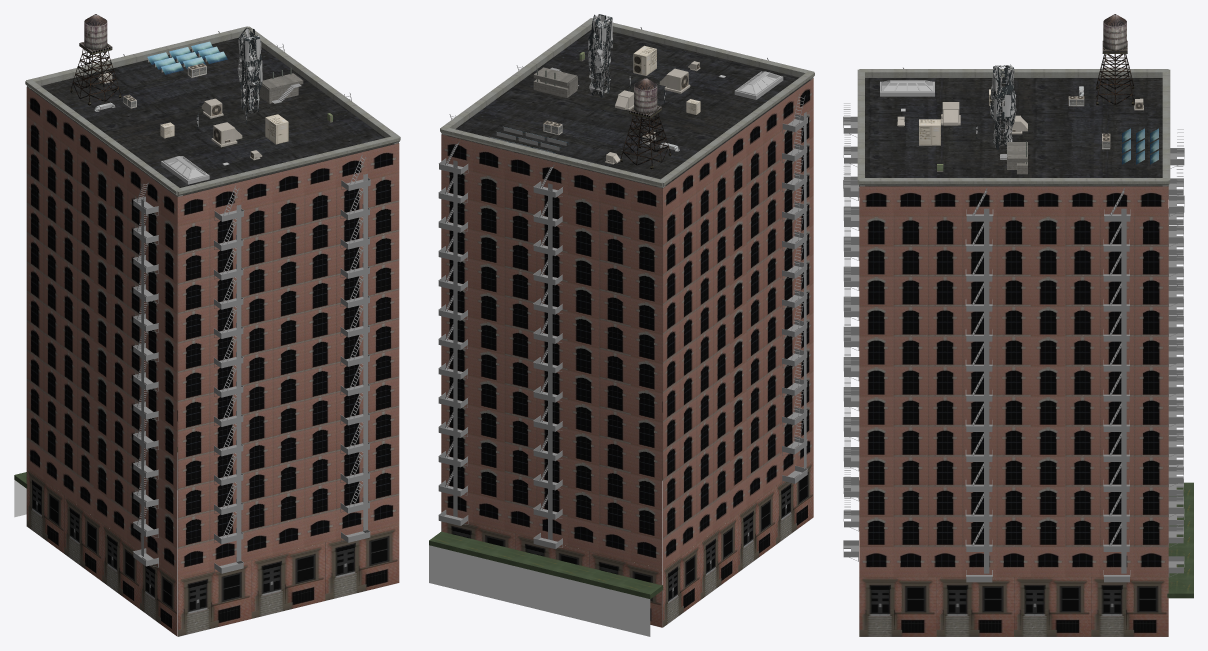
File: building4.gltf
3 views of the same model, side by side, from view 1: azimuth 30°, elevation 25°; view 2: azimuth 150°, elevation 25°; view 3: azimuth 270°, elevation 25° (orthographic). The views are drawn at different scales.
Parts seen in each view (by area): view 1: Object_118.006, Object_99.107, Object_99.113, Object_99.110, Object_99.114, Object_99.122, Object_99.119, Object_99.118; view 2: Object_118.006, Object_99.107, Object_99.113, Object_99.114, Object_99.122, Object_99.110, Object_99.119, Object_99.118; view 3: Object_118.006, Object_99.107, Object_99.113, Object_99.122, Object_99.110, Object_99.114, Object_99.119.
Boxes of the visible parts, box(x1,y1,x2,y2) form: Object_118.006: box(14, 26, 400, 636); Object_99.107: box(70, 14, 121, 105); Object_99.113: box(237, 27, 262, 113); Object_99.110: box(147, 41, 227, 74); Object_99.114: box(259, 68, 303, 103); Object_99.122: box(161, 156, 209, 184); Object_99.119: box(265, 114, 288, 144); Object_99.118: box(211, 122, 242, 147); Object_118.006: box(429, 18, 814, 636); Object_99.107: box(620, 78, 671, 169); Object_99.113: box(588, 14, 612, 97); Object_99.114: box(533, 67, 578, 97); Object_99.122: box(734, 71, 783, 99); Object_99.110: box(490, 126, 568, 153); Object_99.119: box(633, 45, 656, 75); Object_99.118: box(659, 68, 690, 93); Object_118.006: box(843, 67, 1193, 636); Object_99.107: box(1095, 14, 1134, 105); Object_99.113: box(990, 64, 1016, 149); Object_99.122: box(880, 80, 934, 96); Object_99.110: box(1122, 128, 1158, 164); Object_99.114: box(1000, 141, 1027, 174); Object_99.119: box(919, 119, 940, 145).
Size of the model in its own units: 26.63 by 53.27 by 31.76.
Materials: 23 (15 with a texture image).
